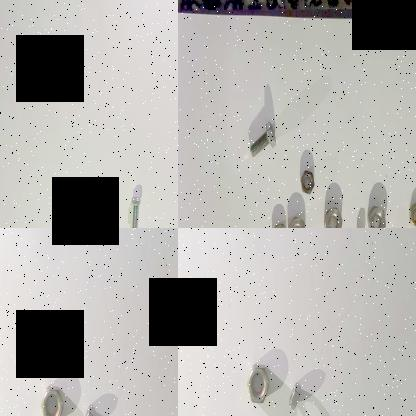Bolts: (250, 119, 280, 160), (128, 192, 143, 228)
NUTS: (36, 366, 70, 416), (245, 362, 269, 404), (285, 380, 302, 414), (322, 203, 344, 228), (299, 167, 315, 200), (368, 203, 388, 228), (80, 401, 102, 416), (286, 215, 308, 228), (407, 200, 416, 226), (271, 219, 289, 228)
